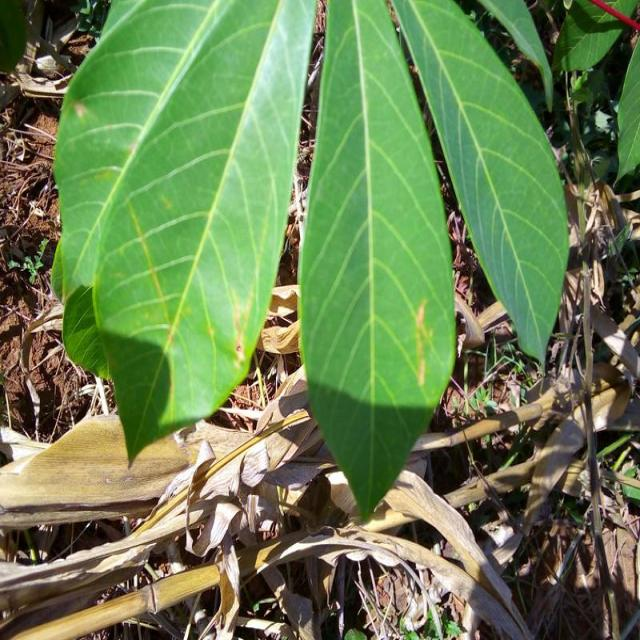cassava leaf: (53, 0, 318, 467), (298, 0, 458, 523), (391, 0, 571, 371)
